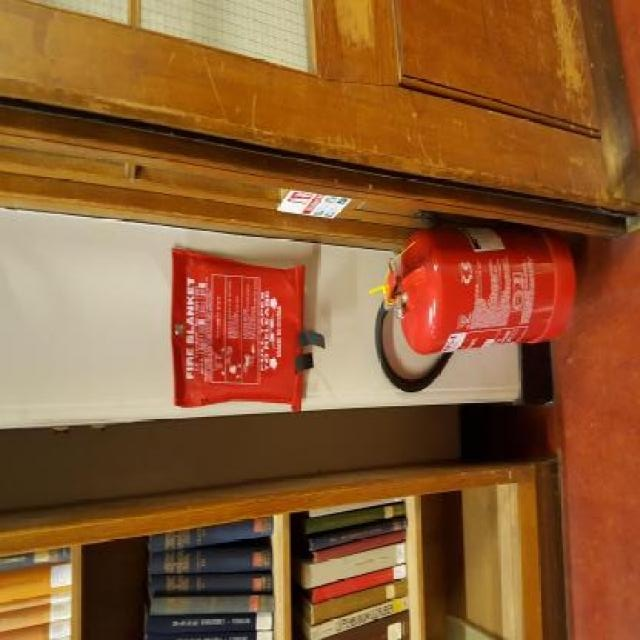fire extinguisher: (374, 218, 578, 394)
